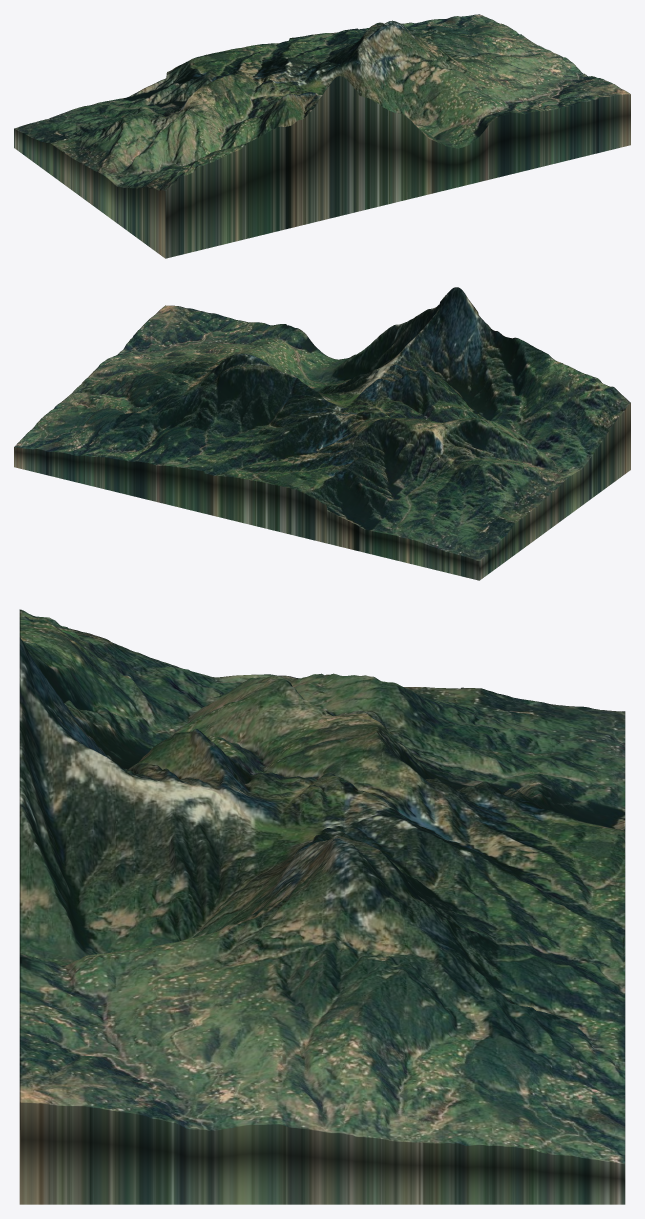
3 renders of one model, top to bottom at view 1: azimuth 30°, elevation 25°; view 2: azimuth 150°, elevation 25°; view 3: azimuth 270°, elevation 25°, orthographic. The views are drawn at different scales.
Bounding box in the file's own units: 1260 × 363 × 710.
1 material, 1 textured.
